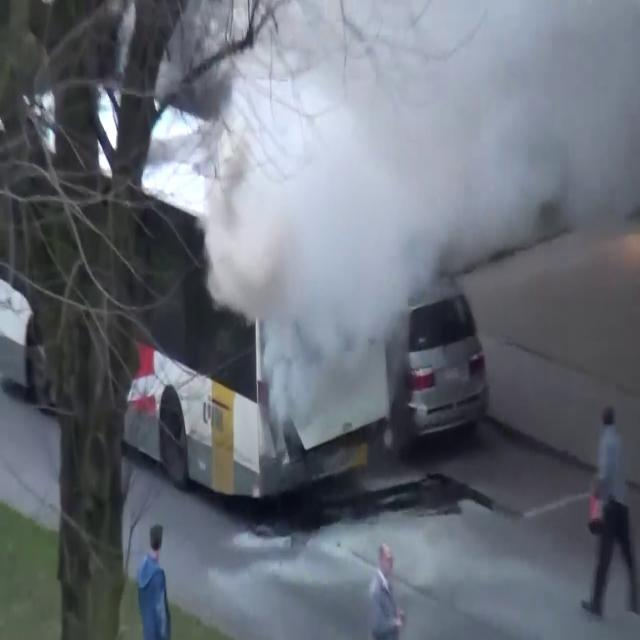Smoke: (176, 0, 640, 432)
